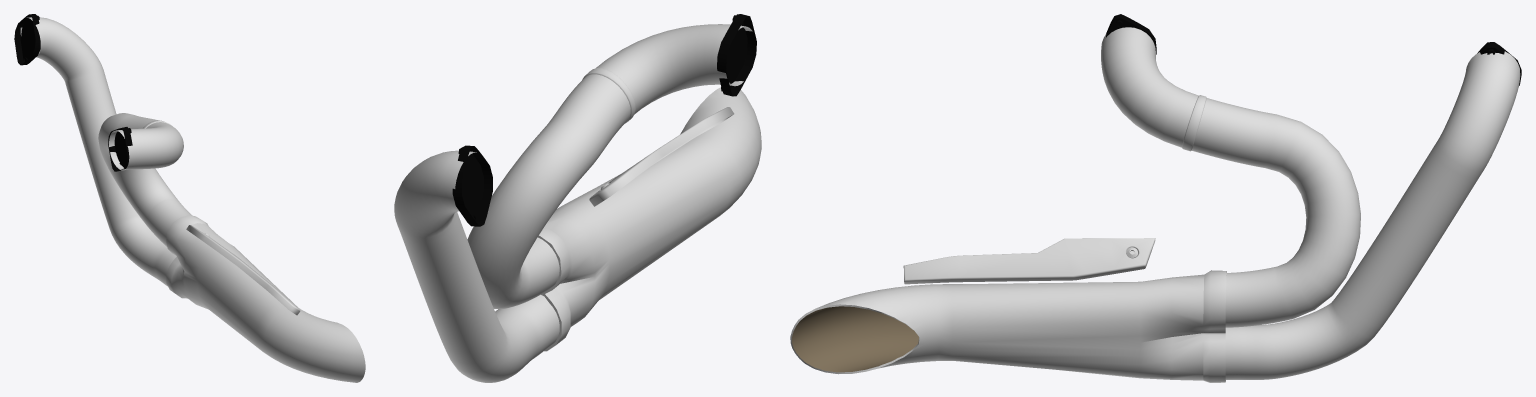
Rendered from Exhaust_SDBRNR_SHRT_CHR.glb.
3 views of the same model, side by side, from view 1: azimuth 30°, elevation 25°; view 2: azimuth 150°, elevation 25°; view 3: azimuth 270°, elevation 25° (orthographic). The views are drawn at different scales.
Visible parts, largest first — view 1: Exhaust_SDBRNR_SHRT_CHR; view 2: Exhaust_SDBRNR_SHRT_CHR; view 3: Exhaust_SDBRNR_SHRT_CHR.
Part boxes in pixels (x1,y1,x2,y2): Exhaust_SDBRNR_SHRT_CHR: (14, 14, 365, 382); Exhaust_SDBRNR_SHRT_CHR: (394, 14, 761, 382); Exhaust_SDBRNR_SHRT_CHR: (790, 14, 1521, 382).
Bounding box in the file's own units: 0.2448 × 0.4137 × 0.9122.
